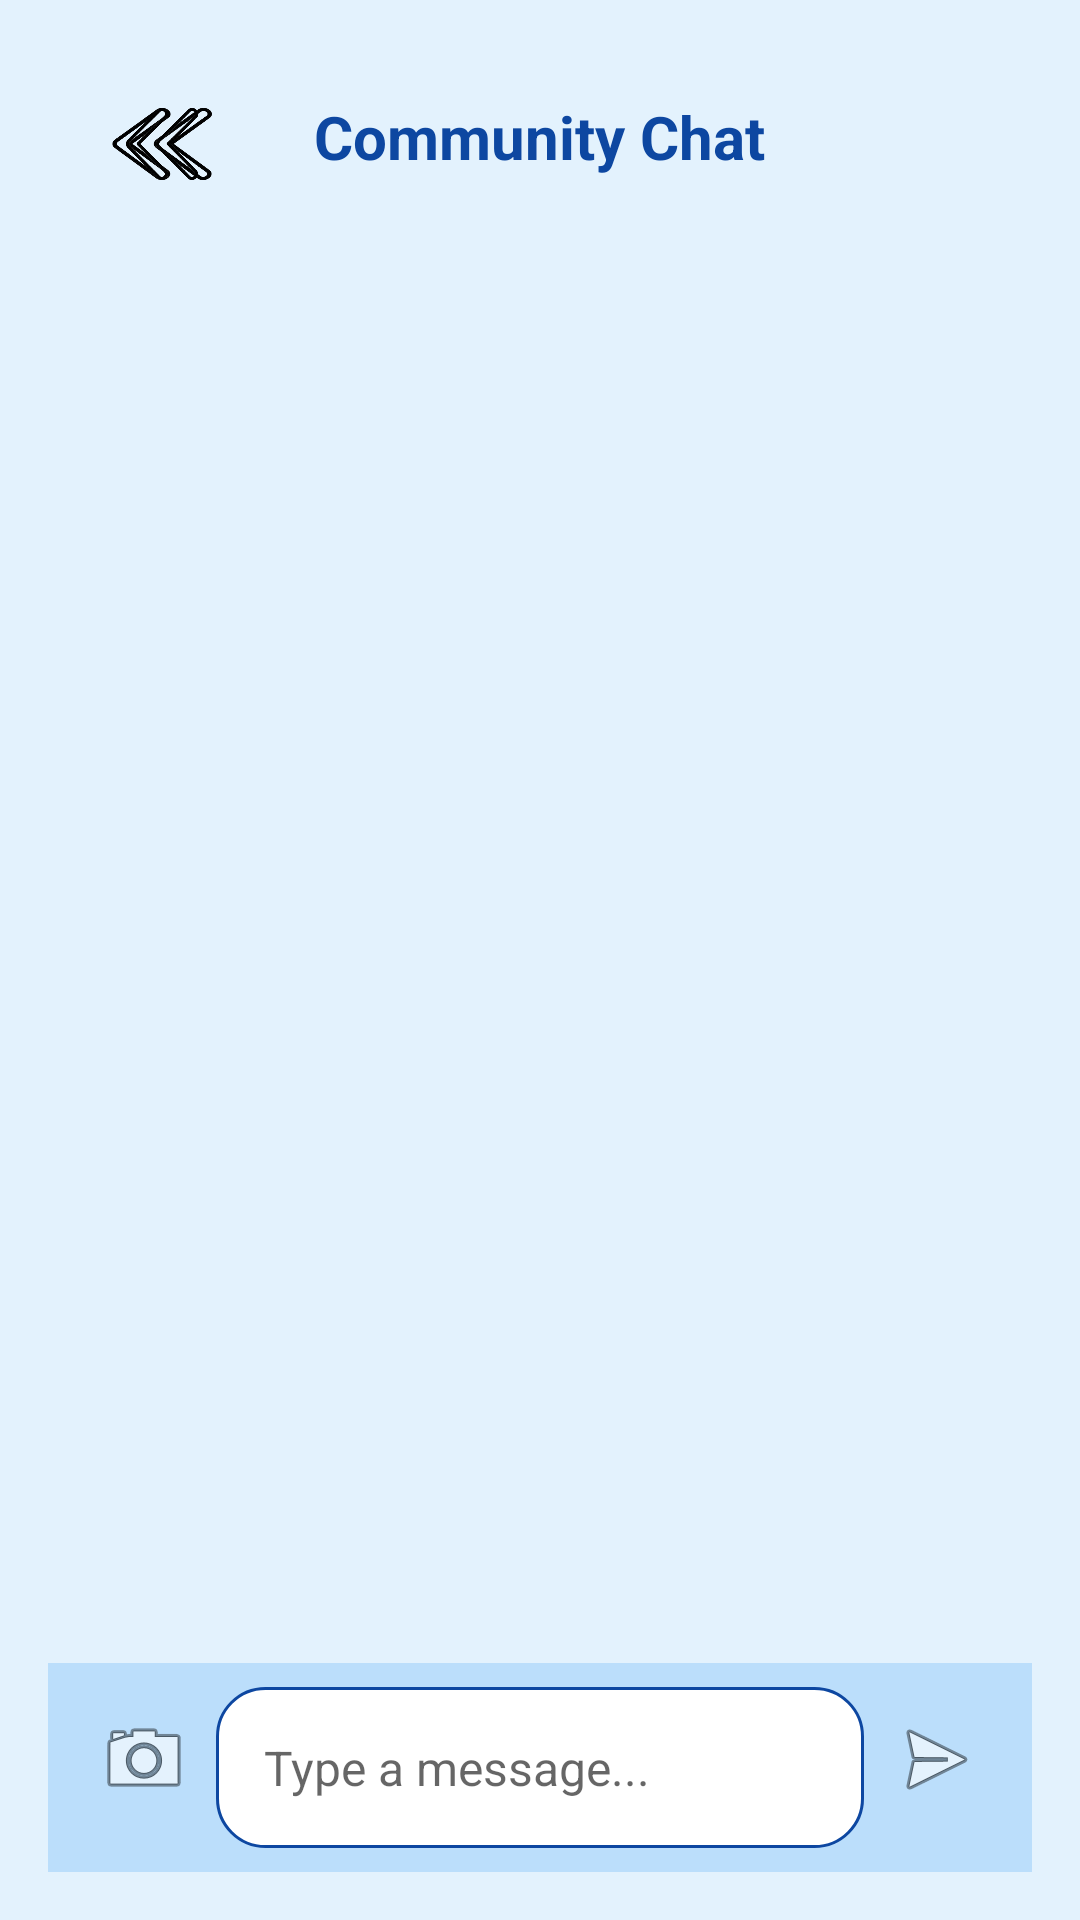

Where icons sit on this 1080px×1920px app screen, as (x1, y1, x2, y2):
Attach: (107, 1728, 181, 1787)
Send: (906, 1729, 968, 1790)
this is back button: (112, 108, 212, 180)
